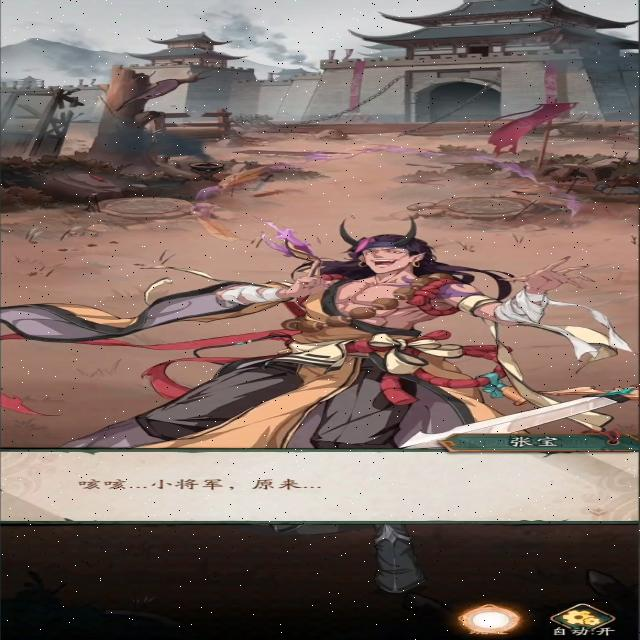system-auto: (548, 602, 620, 637)
